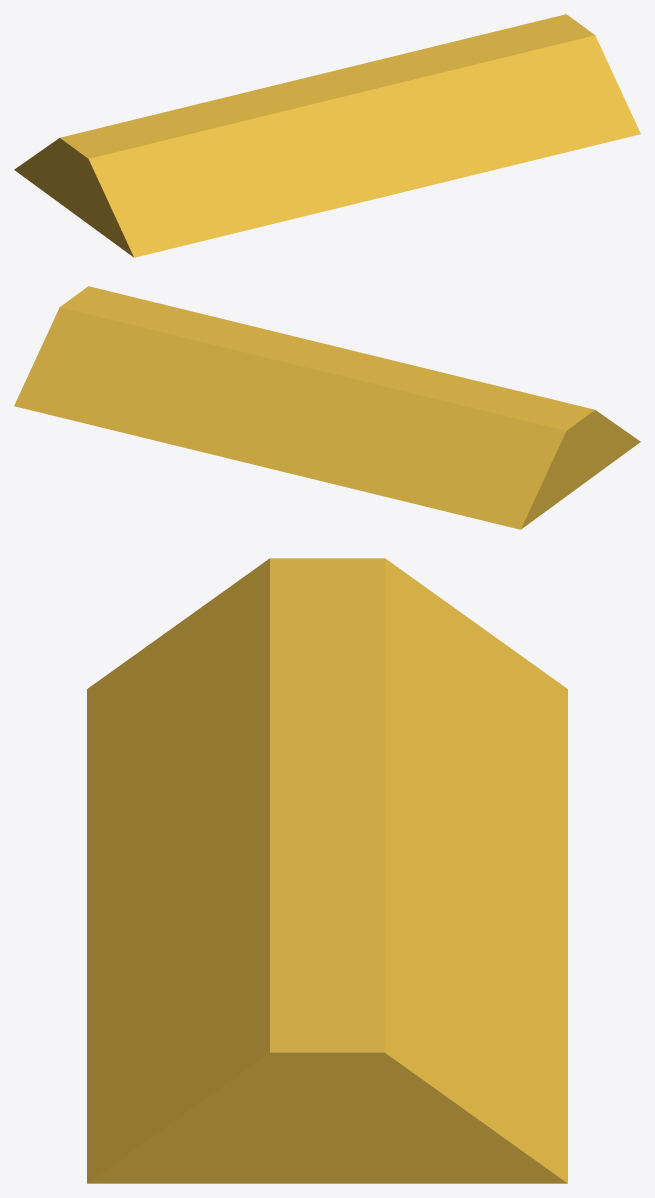
File: rect.gltf
3 renders of one model, top to bottom at view 1: azimuth 30°, elevation 25°; view 2: azimuth 150°, elevation 25°; view 3: azimuth 270°, elevation 25°, orthographic. The views are drawn at different scales.
Visible parts, largest first — view 1: Cube; view 2: Cube; view 3: Cube.
Boxes of the visible parts, x1,y1,x2,y2 form: Cube: (14, 14, 640, 257); Cube: (14, 286, 640, 529); Cube: (87, 558, 567, 1183).
Size of the model in its own units: 4.89 by 0.6035 by 2.01.
